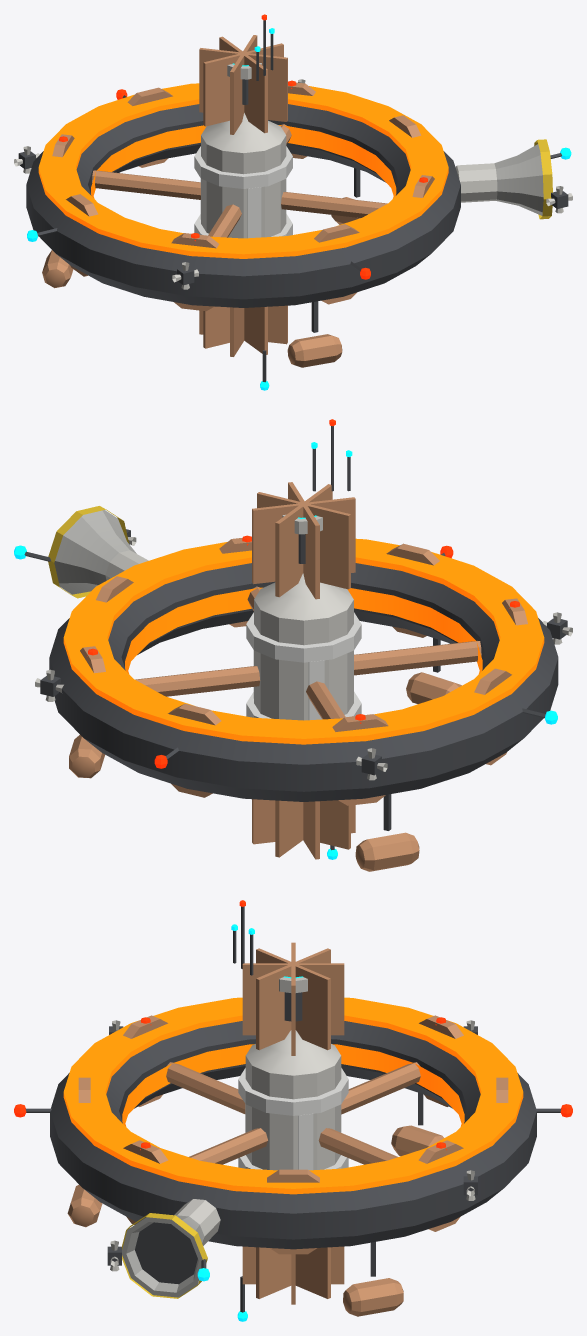
Rendered from copper_smelter.glb.
3 renders of one model, top to bottom at view 1: azimuth 30°, elevation 25°; view 2: azimuth 150°, elevation 25°; view 3: azimuth 270°, elevation 25°, orthographic. The views are drawn at different scales.
Parts seen in each view (by area): view 1: copper_smelter; view 2: copper_smelter; view 3: copper_smelter.
Part boxes in pixels (x1=…): copper_smelter: x1=14, y1=14, x2=572, y2=390; copper_smelter: x1=14, y1=419, x2=572, y2=871; copper_smelter: x1=14, y1=900, x2=572, y2=1321.
Bounding box in the file's own units: 1.93 × 1.37 × 1.65.
